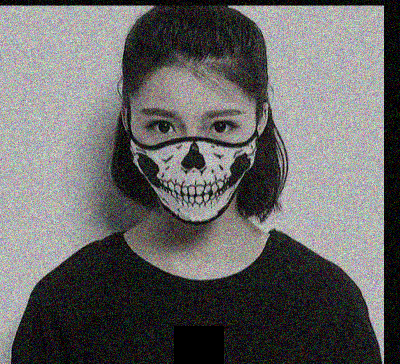with_mask: (127, 104, 259, 224)
